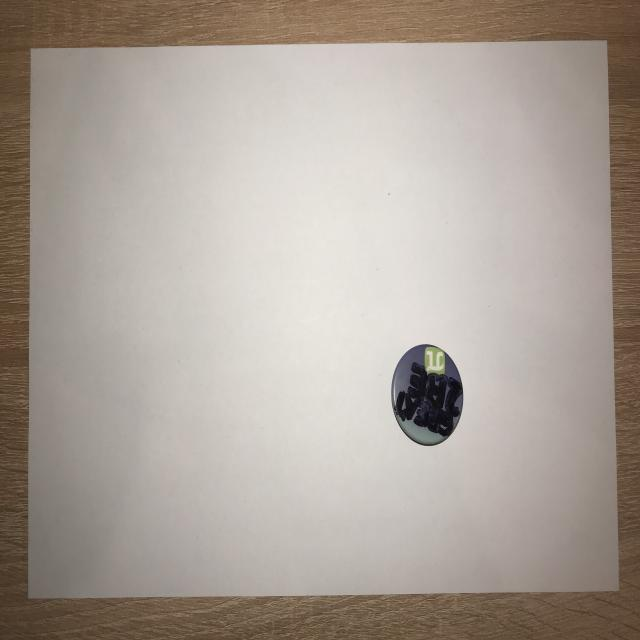icon: (384, 336, 468, 452)
